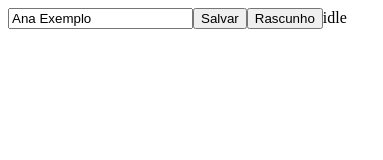
useSubmit › envia o FormData (com o botão que enviou), mostra loading e depois "Salvo"
The image size is (383, 160).
Later steps or results of the test are not shown.
What coordinates should you click on to do the following:
click the button "Rascunho"
I would click on:
 (285, 18)
Its box is [247,8,323,29].
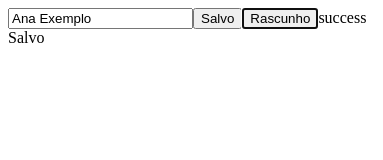
Result: the text "Salvo" is shown at [201,11,234,26]
